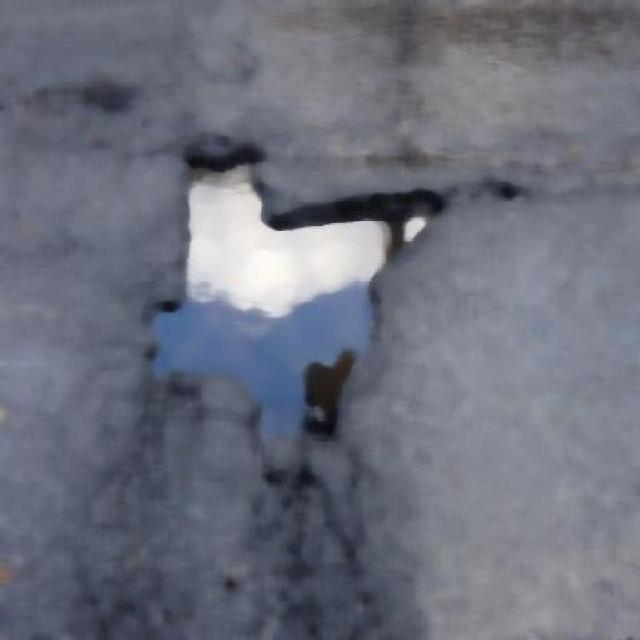Pothole: (163, 140, 380, 491)
